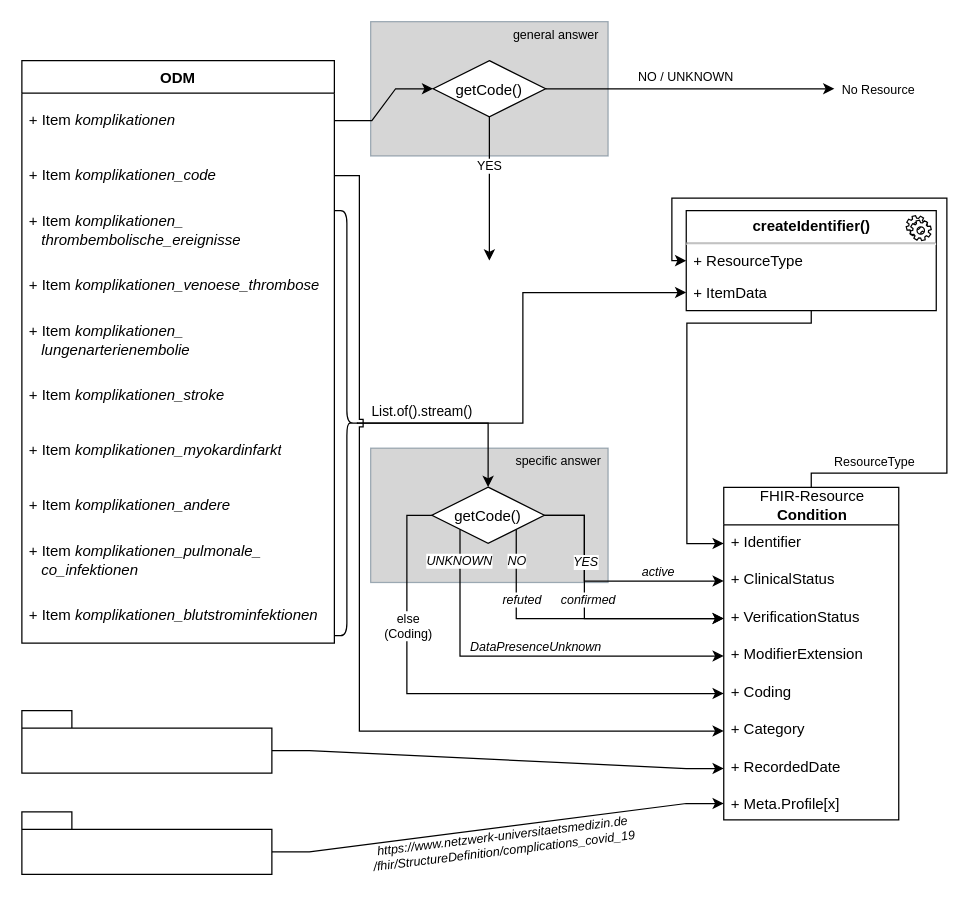
Image size: 979x898. Some labels were removed from this diagram. Each missing label, with the centre of its shape:
"Extension UnknownDateTime" belongs at point 146,741.
"GECCO Profiles" belongs at point 146,842.
